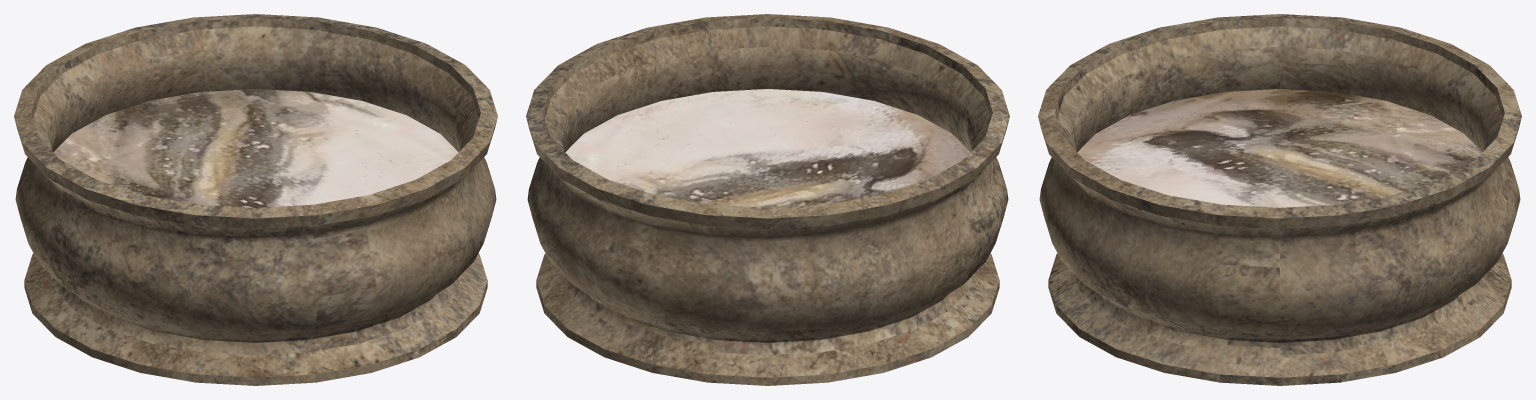
File: medication.glb
3 views of the same model, side by side, from view 1: azimuth 30°, elevation 25°; view 2: azimuth 150°, elevation 25°; view 3: azimuth 270°, elevation 25° (orthographic).
Parts seen in each view (by area): view 1: pot, liuqid; view 2: pot, liuqid; view 3: pot, liuqid.
Boxes of the visible parts, x1,y1,x2,y2 form: pot: (14, 14, 497, 385); liuqid: (53, 89, 458, 207); pot: (526, 14, 1009, 385); liuqid: (565, 89, 970, 207); pot: (1038, 14, 1521, 385); liuqid: (1077, 89, 1482, 207).
Bounding box in the file's own units: 0.5546 × 0.2217 × 0.5546.
2 materials, 2 textured.
